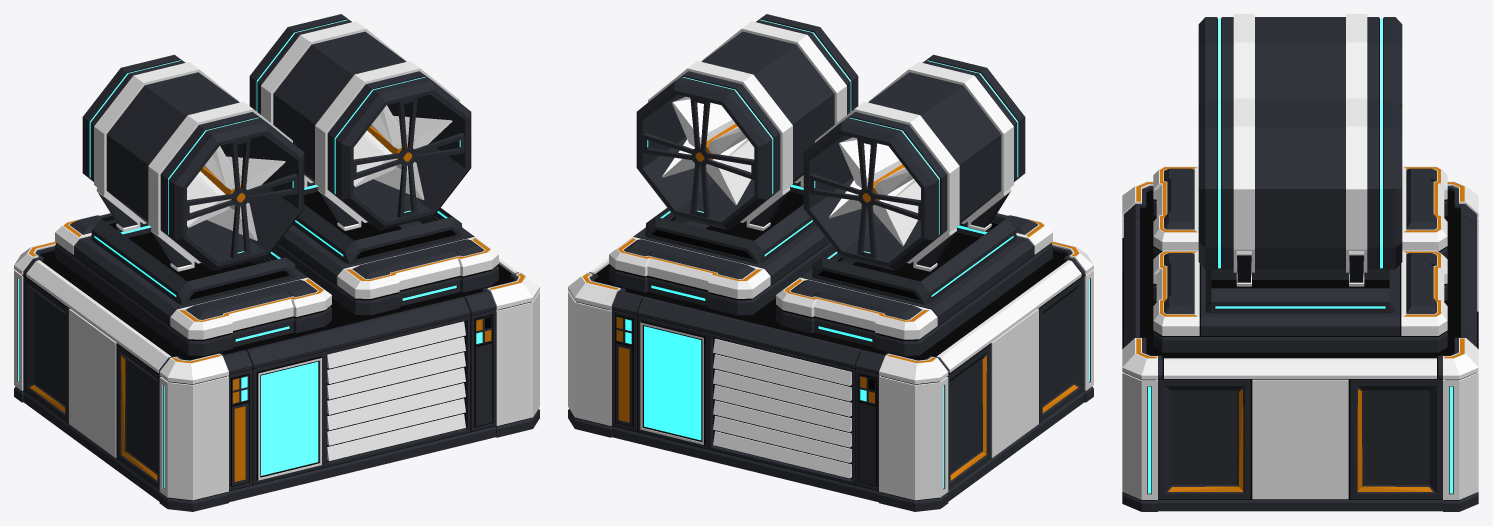
Rendered from SM_Wind_T2.fbx.
3 views of the same model, side by side, from view 1: azimuth 30°, elevation 25°; view 2: azimuth 150°, elevation 25°; view 3: azimuth 270°, elevation 25° (orthographic). The views are drawn at different scales.
Visible parts, largest first — view 1: SM_Wind_T2_Base, SM_Wind_T2_Blades_1, SM_Wind_T2_Blades_2; view 2: SM_Wind_T2_Base, SM_Wind_T2_Blades_1, SM_Wind_T2_Blades_2; view 3: SM_Wind_T2_Base.
Part boxes in pixels (left/top/right/bottom): SM_Wind_T2_Base: left=14, top=14, right=539, bottom=511; SM_Wind_T2_Blades_1: left=353, top=105, right=452, bottom=199; SM_Wind_T2_Blades_2: left=187, top=146, right=285, bottom=240; SM_Wind_T2_Base: left=568, top=14, right=1093, bottom=511; SM_Wind_T2_Blades_1: left=662, top=96, right=754, bottom=205; SM_Wind_T2_Blades_2: left=829, top=137, right=920, bottom=246; SM_Wind_T2_Base: left=1122, top=14, right=1478, bottom=511.
Size of the model in its own units: 250 by 215 by 200.
